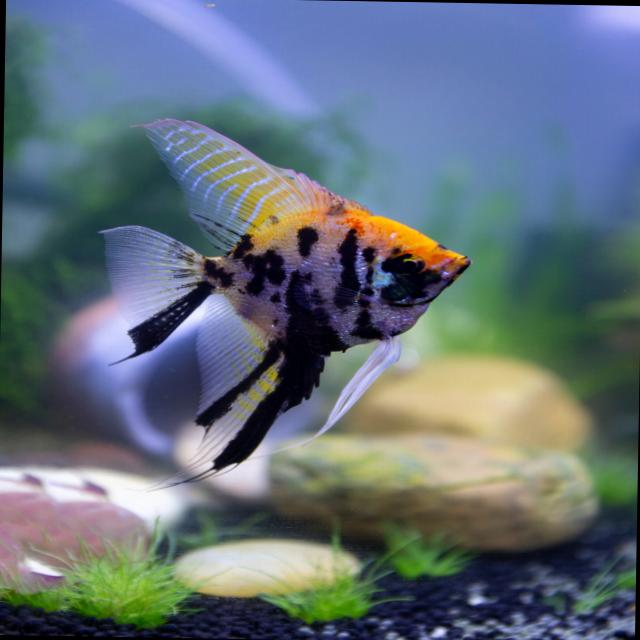AngelFish: (98, 116, 472, 490)
